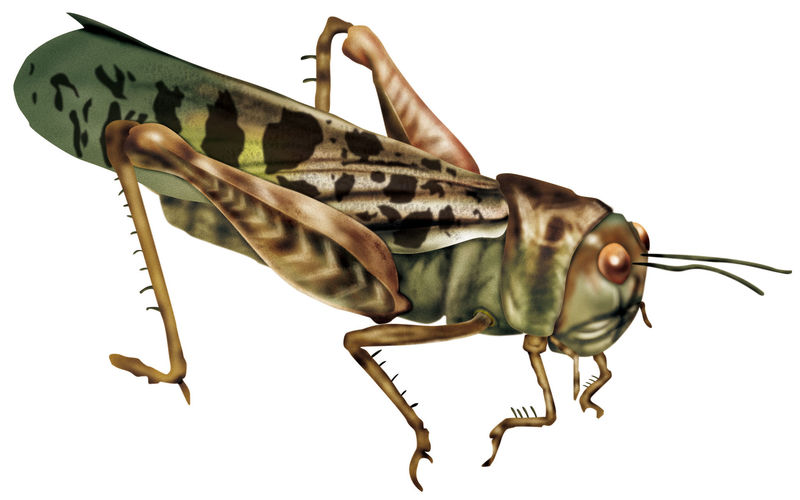huangchong: (9, 12, 662, 425)
